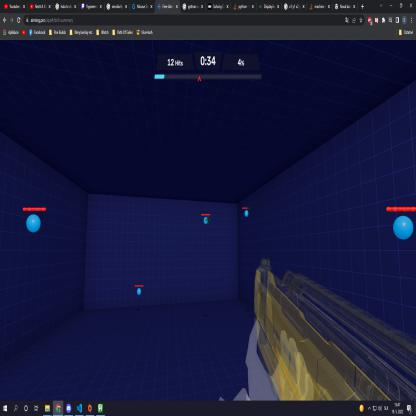sphere: (392, 214, 415, 242), (26, 214, 42, 234), (204, 216, 209, 226), (136, 288, 142, 296), (244, 210, 249, 217)
